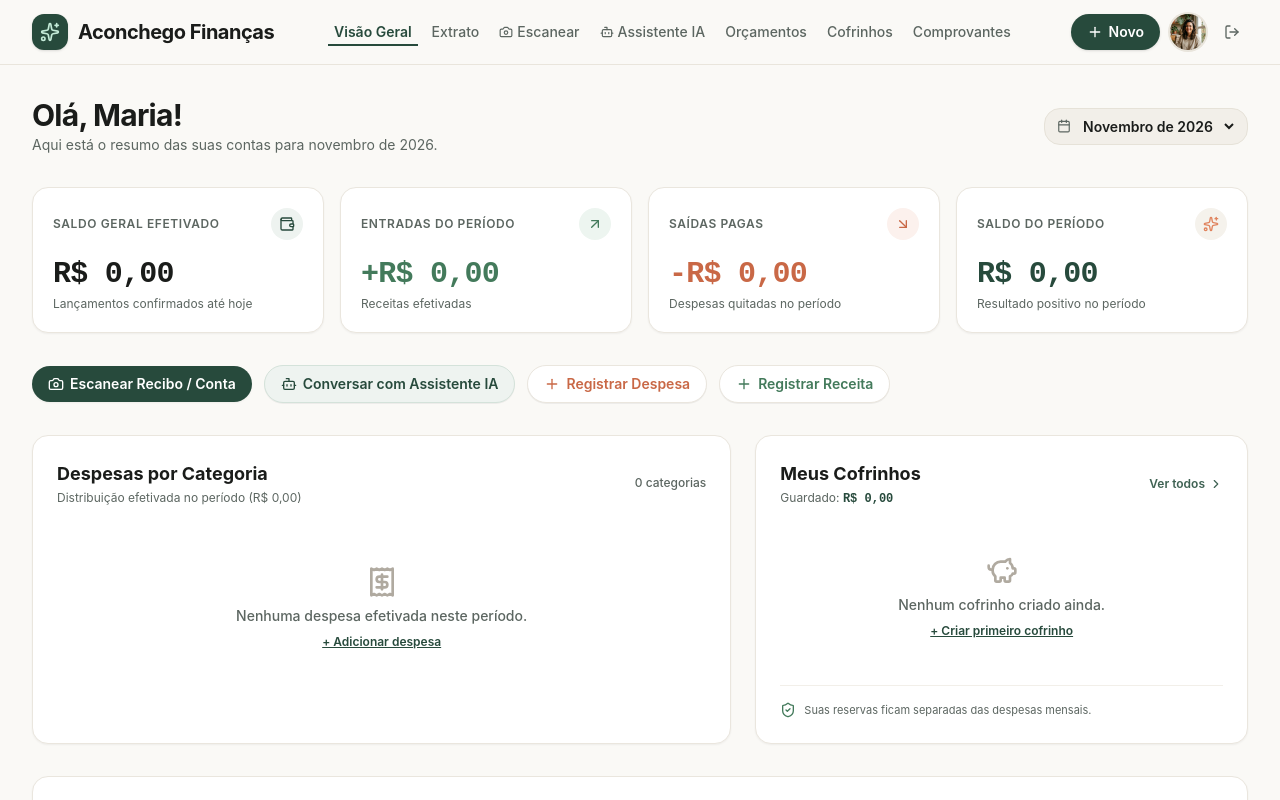
Test: Fluxos de Interface — Aconchego Finanças › Assistente IA exibe sugestões obrigatórias, cartão de confirmação humana e executa proposta confirmada
Expected: the heading "Olá, Maria!" is shown, [32,97,182,133]
Click the button "Assistente IA": click(652, 32) [594,18,711,46]
(page scrolled)
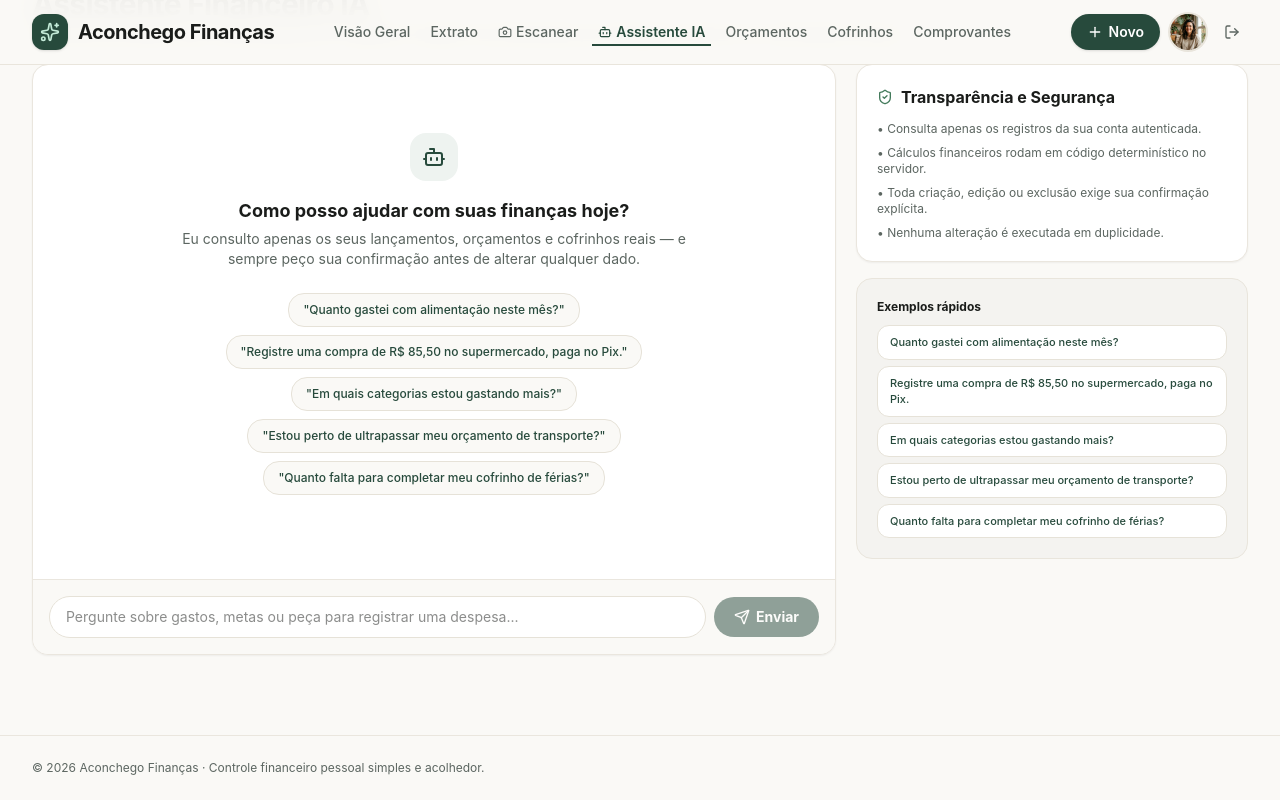
Note: Clica no prompt sugerido
Click the button "Registre uma compra de R$ 85,50 no supermercado, paga no Pix.": click(434, 352) [226,335,642,369]
(page scrolled)
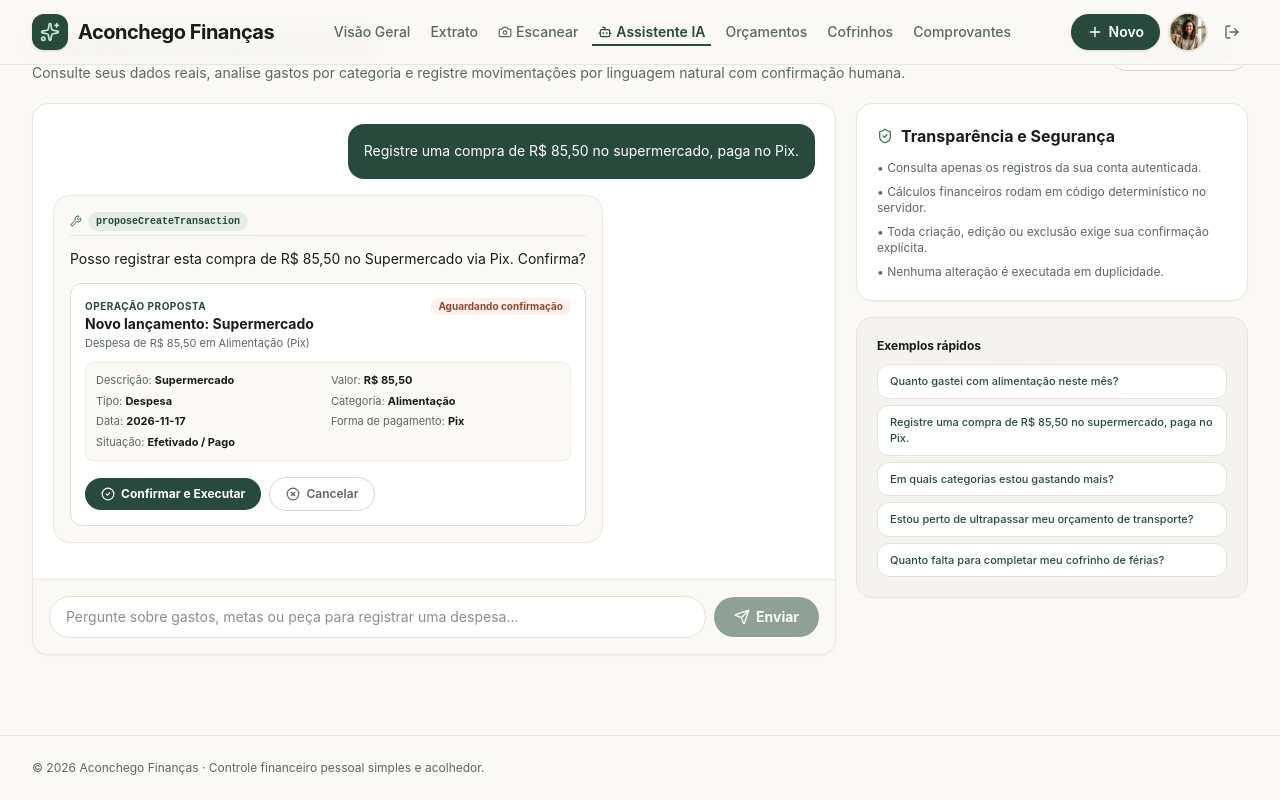
Now the heading "Novo lançamento: Supermercado" is shown, box [85,314,314,334]
Now the text "Aguardando confirmação" is shown, box [430,298,571,315]
Click the button "Confirmar e Executar": click(173, 494) [85,478,262,510]
(page scrolled)
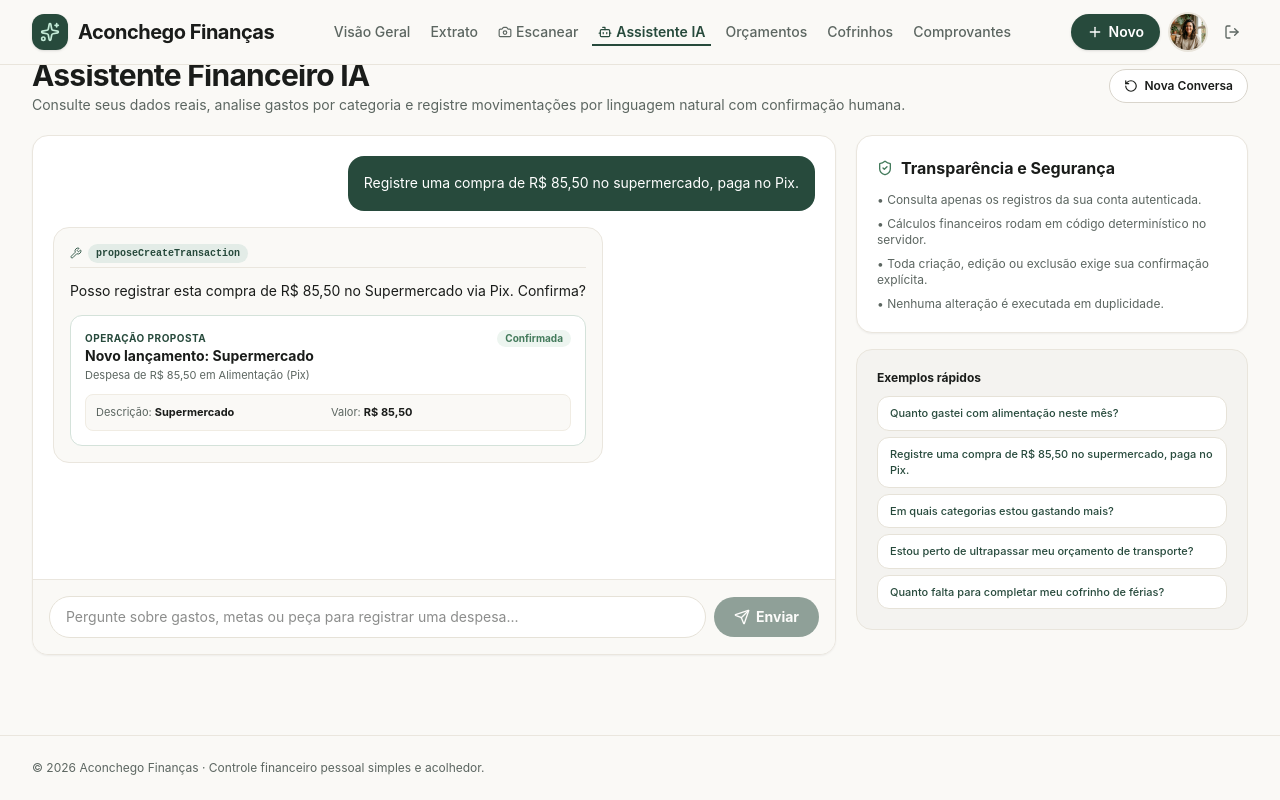
Now the text "Confirmada" is shown, box [497,330,571,347]
